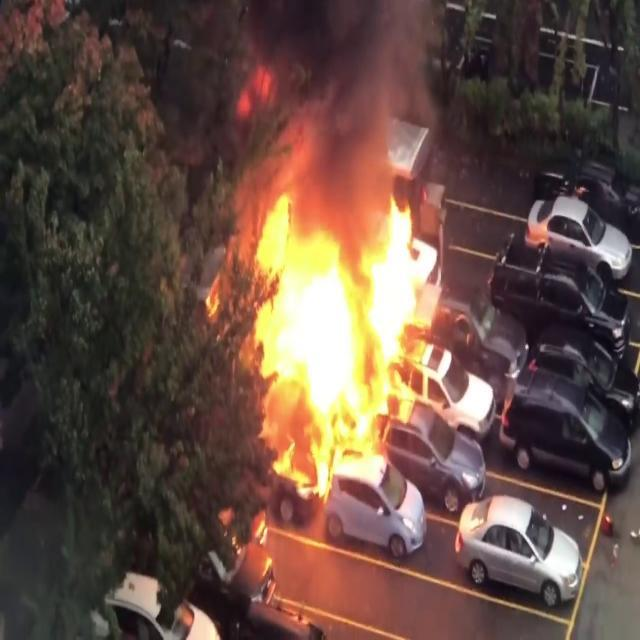Fire: (232, 164, 470, 496)
